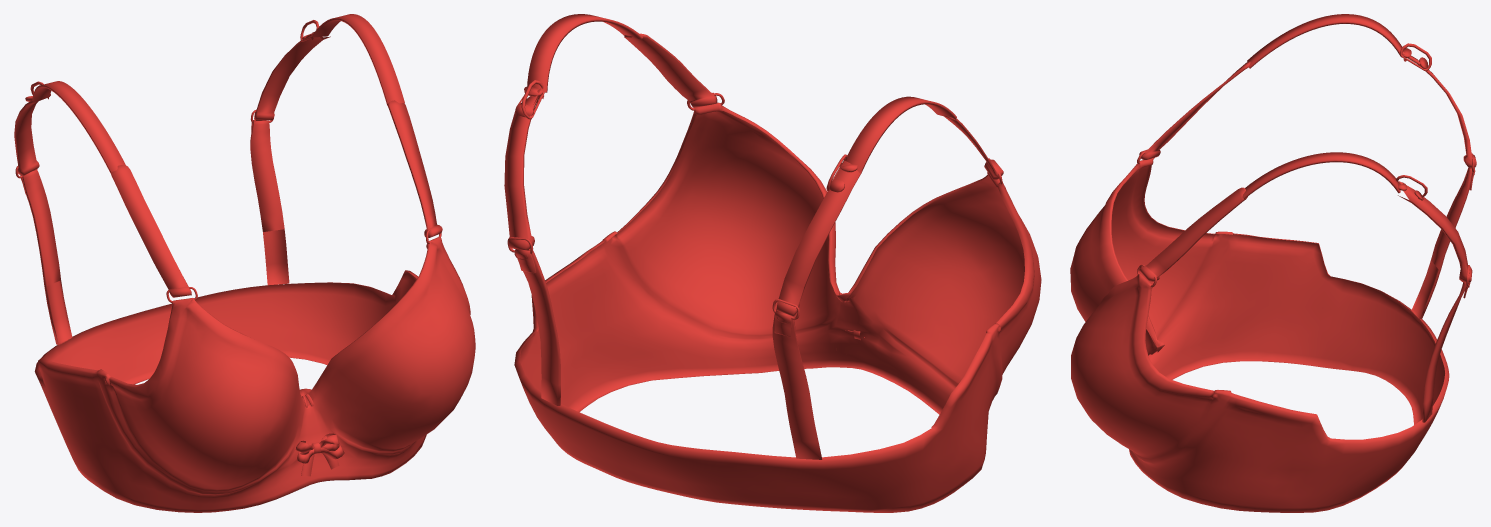
The model's file is sutyen.glb.
3 views of the same model, side by side, from view 1: azimuth 30°, elevation 25°; view 2: azimuth 150°, elevation 25°; view 3: azimuth 270°, elevation 25° (orthographic). The views are drawn at different scales.
Visible parts, largest first — view 1: sutyen; view 2: sutyen; view 3: sutyen.
Boxes of the visible parts, <box> form: sutyen: <box>14,14,475,512</box>; sutyen: <box>504,14,1041,512</box>; sutyen: <box>1070,14,1476,512</box>.
Size of the model in its own units: 0.9673 by 0.906 by 0.9497.
